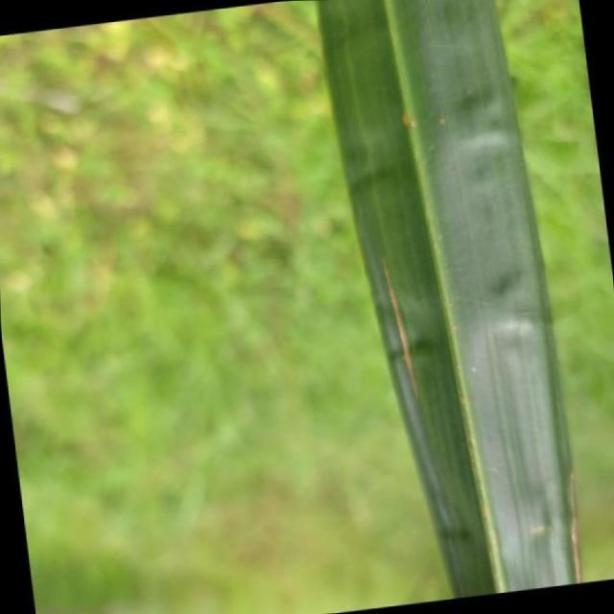Boron: (312, 0, 584, 590)
